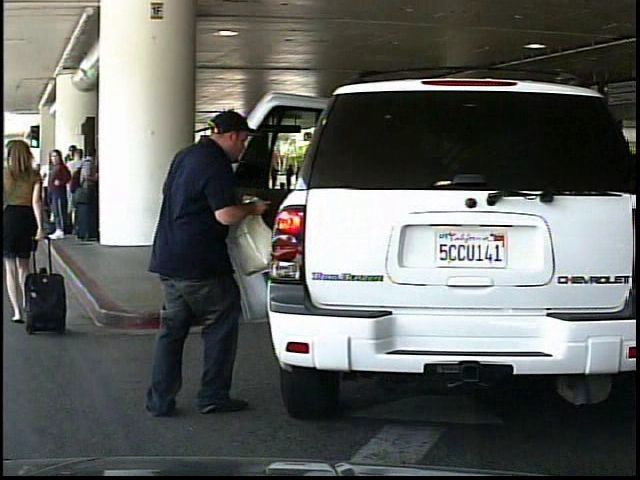person: (154, 103, 272, 411), (5, 137, 53, 332)
